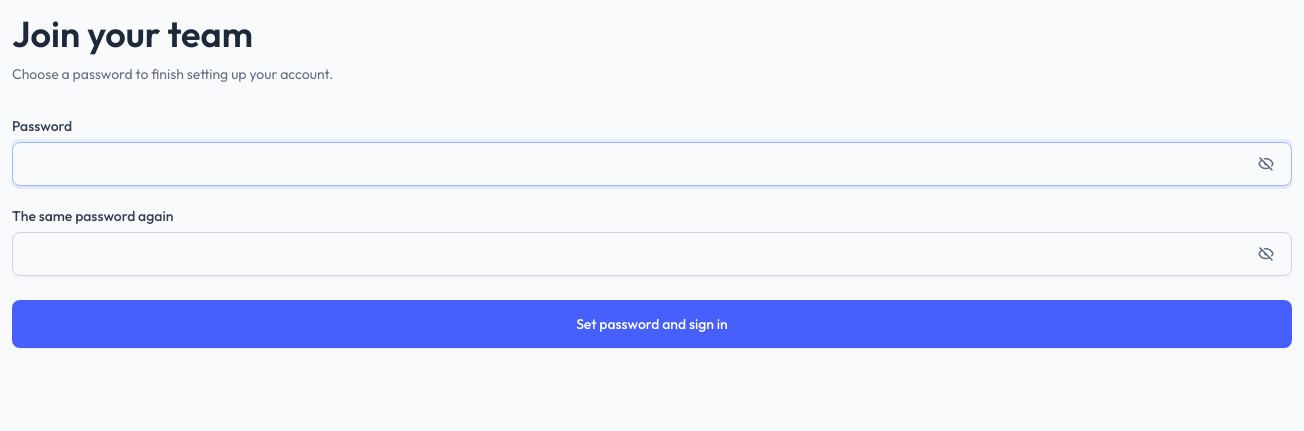
it: accept invitation (P1-079) › says an expired or used link needs a new invitation
Type "a-good-password" into the password field labelled "Password".
click(652, 164); type("a-good-password")  # box [12,142,1292,186]
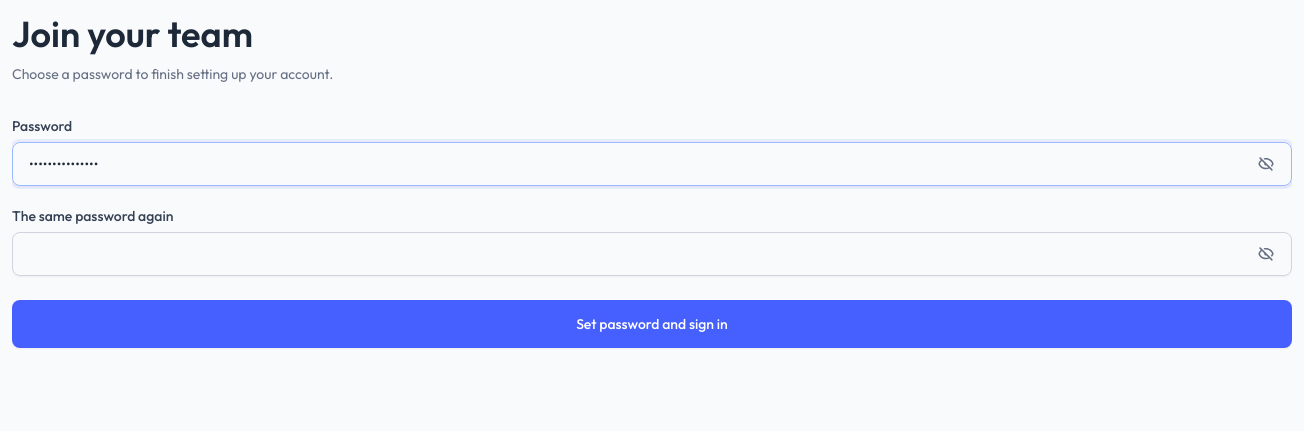
Type "a-good-password" into the password field labelled "The same password again".
click(652, 254); type("a-good-password")  # box [12,232,1292,276]
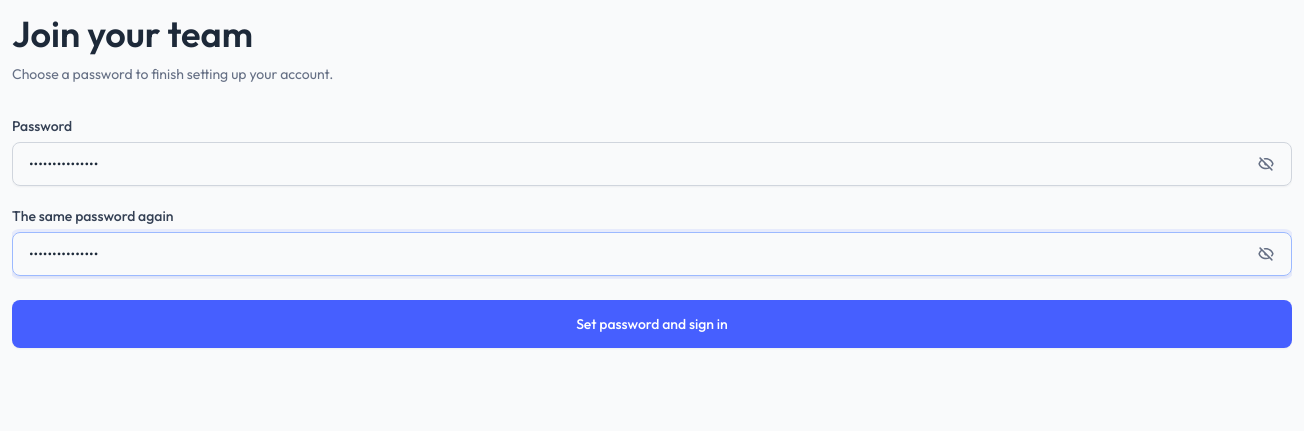
Click the button "Set password and sign in".
click(652, 324)  # box [12,300,1292,348]
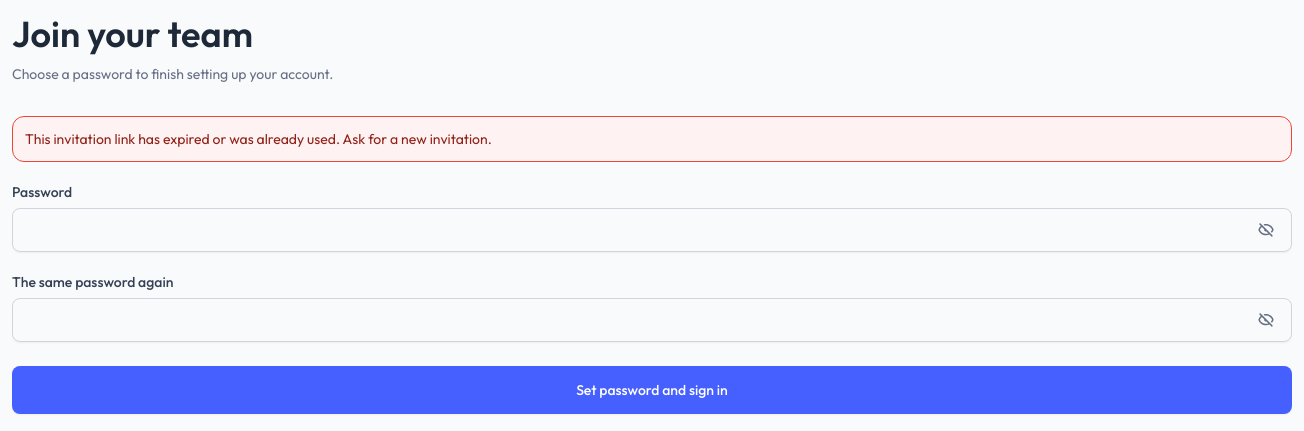
expect the message shows "Ask for a new invitation": met, box [25,130,492,148]
